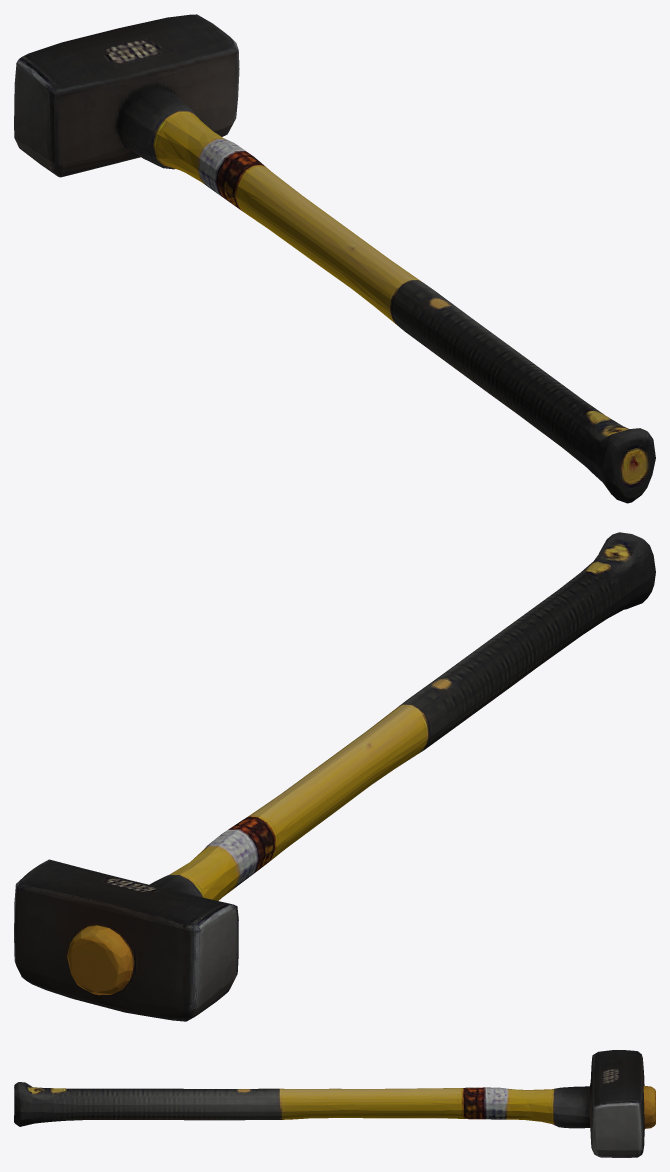
Rendered from kuvalda.glb.
The picture shows the model from 3 angles, top to bottom: view 1: azimuth 30°, elevation 25°; view 2: azimuth 150°, elevation 25°; view 3: azimuth 270°, elevation 25°; orthographic projection. The views are drawn at different scales.
Parts seen in each view (by area): view 1: world; view 2: world; view 3: world.
Part boxes in pixels (box(x1,y1,x2,y2)): world: box(14, 14, 655, 503); world: box(14, 532, 655, 1021); world: box(14, 1050, 655, 1157).
Bounding box in the file's own units: 0.2029 × 0.1108 × 0.9997.
Materials: 1 (1 with a texture image).
